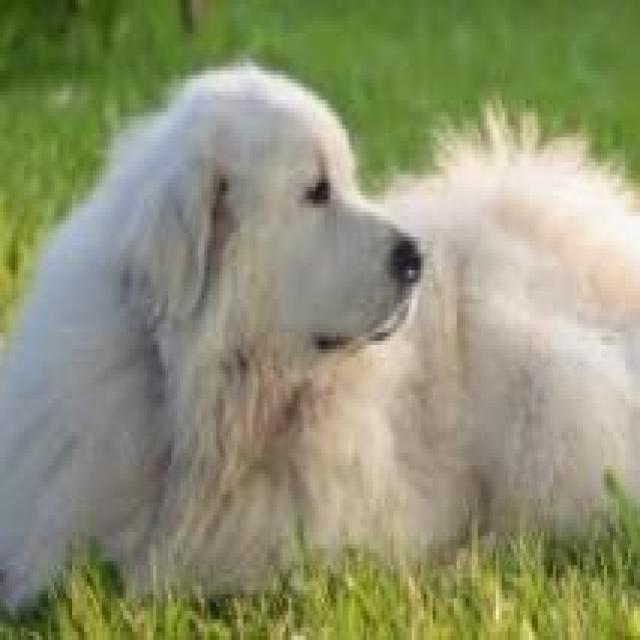Perro: (3, 50, 640, 623)
